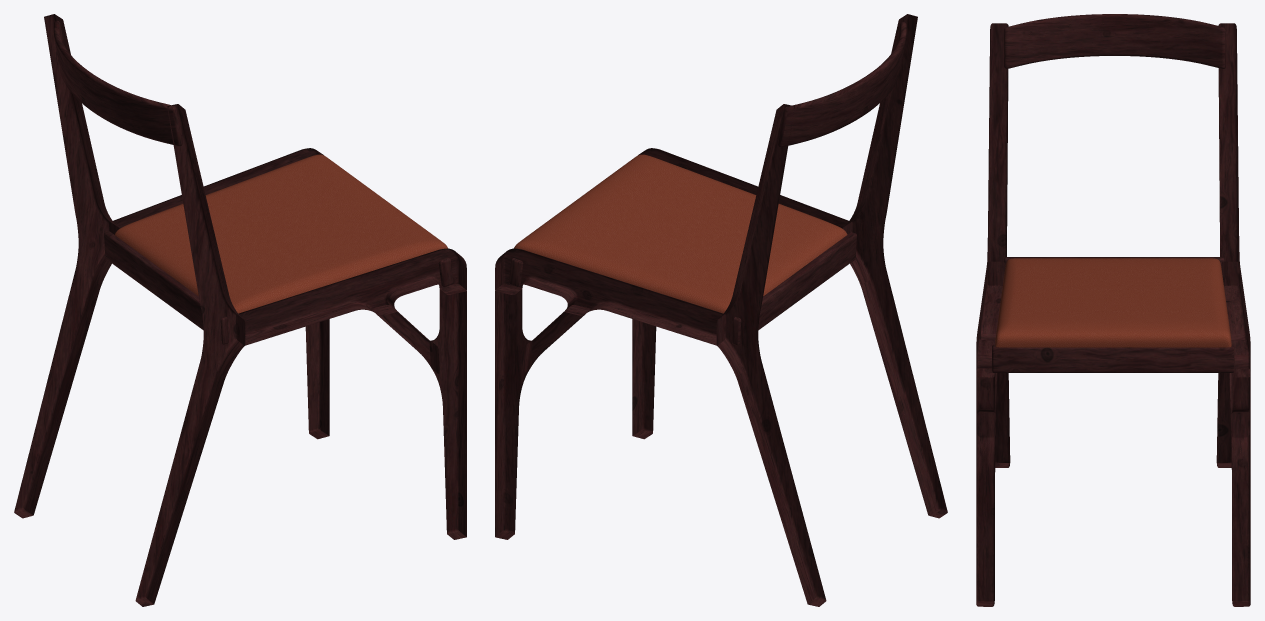
The model's file is silla-9.glb.
3 views of the same model, side by side, from view 1: azimuth 30°, elevation 25°; view 2: azimuth 150°, elevation 25°; view 3: azimuth 270°, elevation 25° (orthographic). The views are drawn at different scales.
Parts seen in each view (by area): view 1: Cube.017, Plane.006; view 2: Cube.017, Plane.006; view 3: Cube.017, Plane.006.
Boxes of the visible parts, box(x1,y1,x2,y2) form: Cube.017: box(14, 14, 466, 606); Plane.006: box(114, 154, 447, 313); Cube.017: box(495, 14, 947, 606); Plane.006: box(514, 154, 847, 313); Cube.017: box(976, 14, 1250, 606); Plane.006: box(995, 258, 1231, 347).
Bounding box in the file's own units: 0.5549 × 0.8202 × 0.4491.
3 materials, 2 textured.
